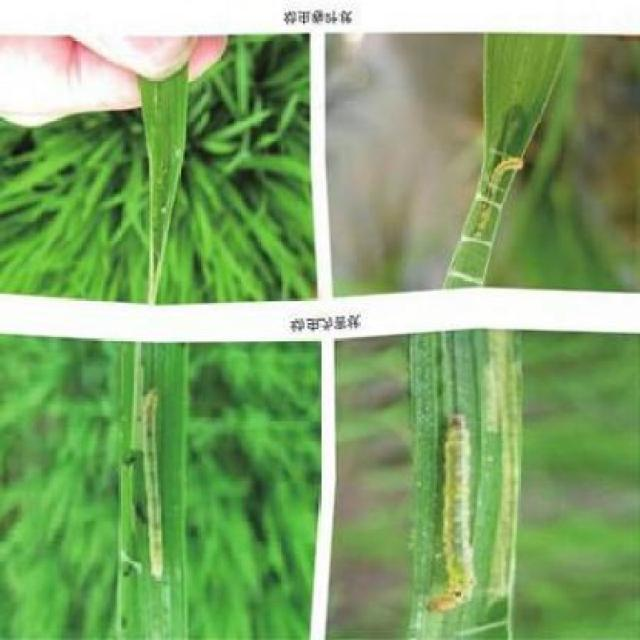leaf-folder: (128, 376, 194, 587), (428, 396, 478, 622), (472, 145, 519, 252)
